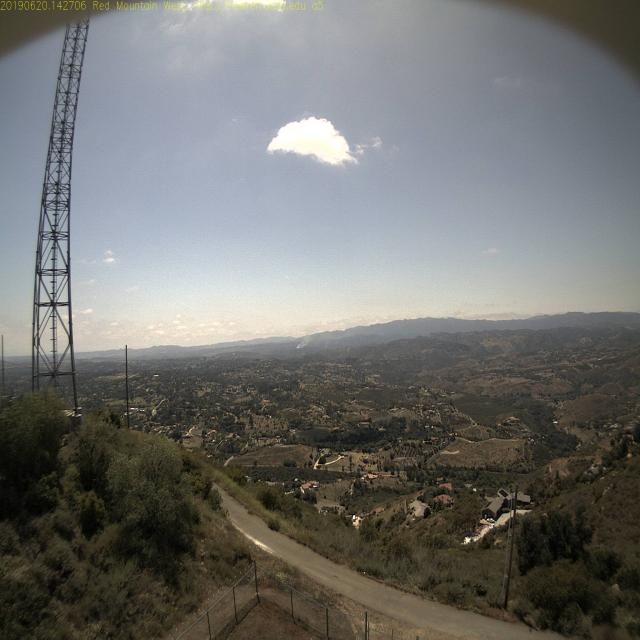smoke: (291, 336, 311, 355)
